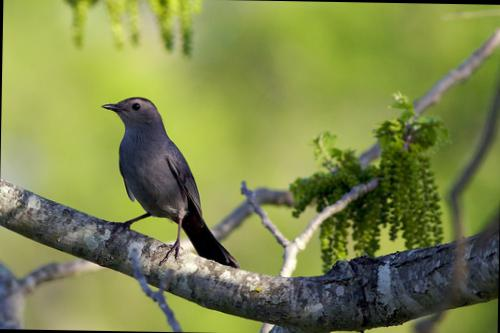bird: (88, 88, 244, 275)
